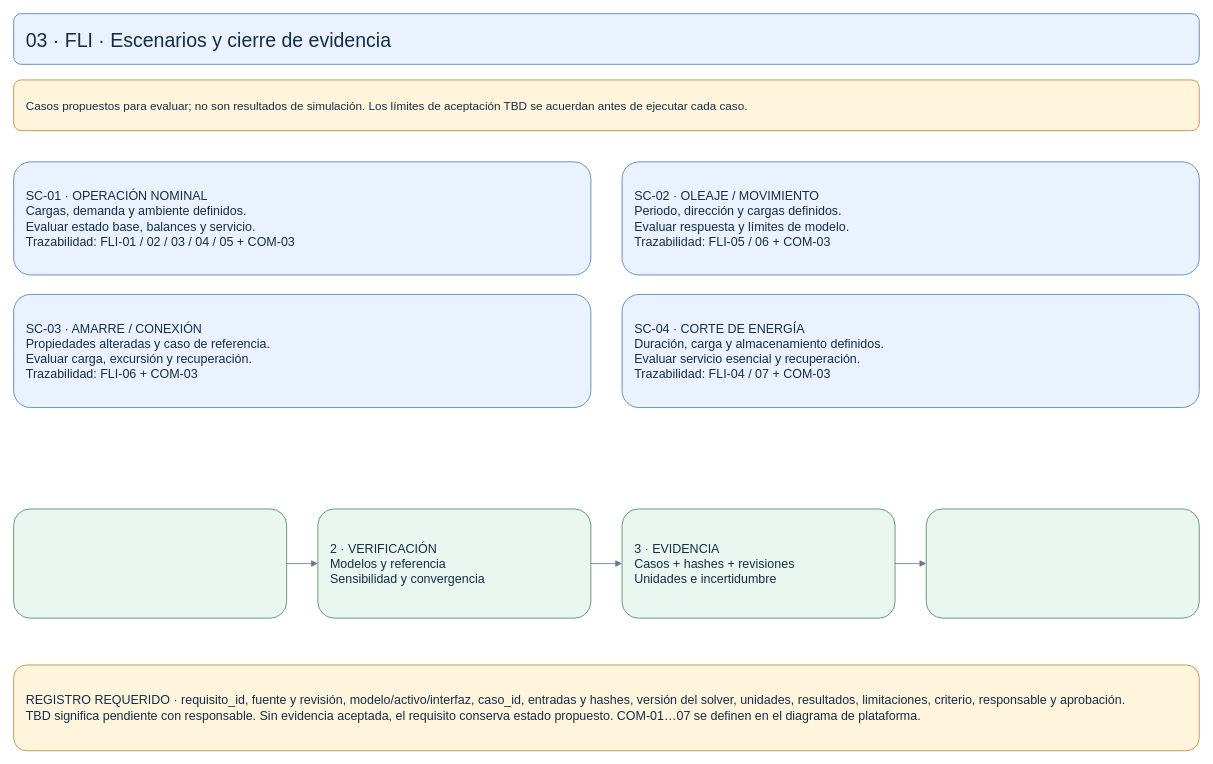
Image size: 1213x764. Some labels were removed from this diagram. The shapes that lost their labels are listed below. From the top down, each one's box as (x1, y1, x2, y2) in pixels, then its label:
(13, 508, 287, 618): 1 · LÍNEA BASE Requisitos y valores TBD Geometría / cargas / sitio
(925, 508, 1199, 618): 4 · REVISIÓN Aceptar o corregir Aprobación registrada
